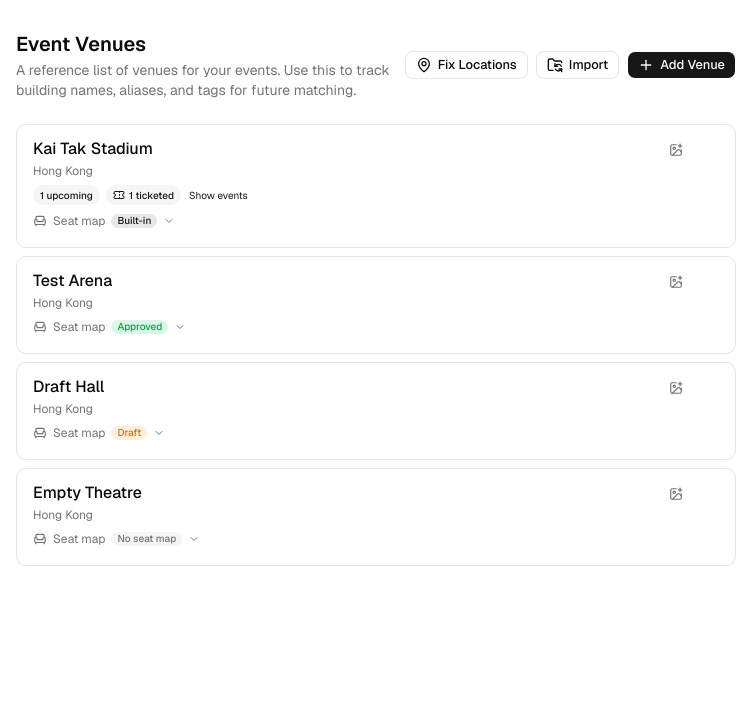
venue seat-map panel › disables Draft with AI until a plan exists
Expected: the text "Empty Theatre" is shown, [33,482,142,503]
Click the button "Seat map No seat map".
click(117, 539)  # box [29,529,204,549]
(page scrolled)
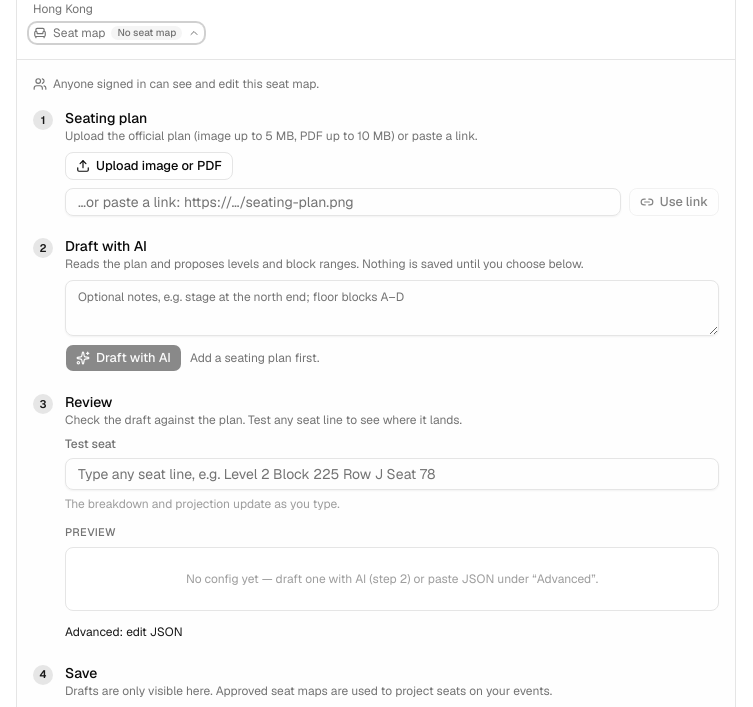
Now the button "Draft with AI" is disabled, box [65,344,182,372]
